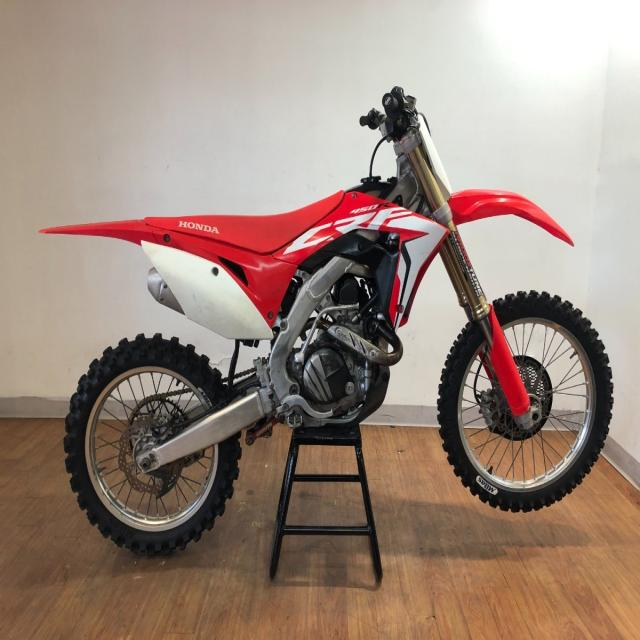Motorcycle: (45, 86, 614, 554)
